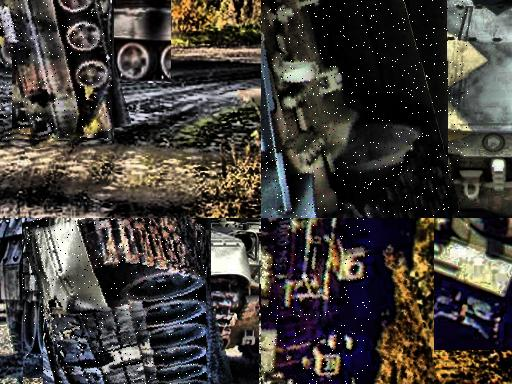tanks: (262, 1, 463, 219), (23, 219, 207, 384), (262, 219, 367, 384), (1, 1, 113, 140)
